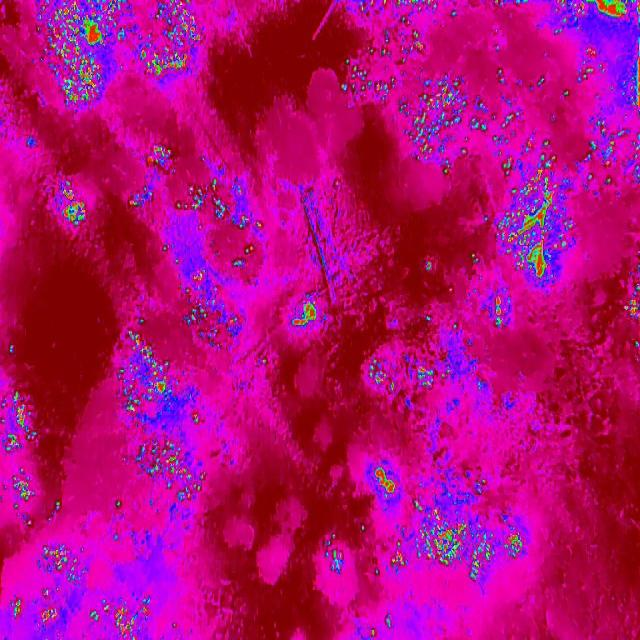fire: (331, 2, 523, 179), (119, 143, 268, 338), (350, 462, 532, 584), (110, 333, 214, 513), (36, 0, 205, 110), (535, 0, 640, 175), (1, 537, 171, 640), (498, 137, 584, 286), (0, 388, 67, 532), (364, 351, 446, 408), (48, 173, 90, 232), (286, 292, 328, 339), (315, 531, 352, 578), (478, 284, 514, 331), (363, 610, 398, 640)
